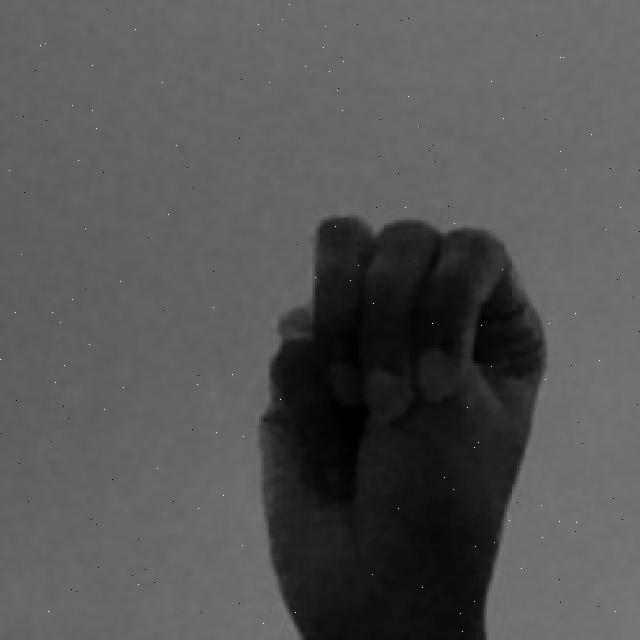M: (255, 209, 561, 640)
